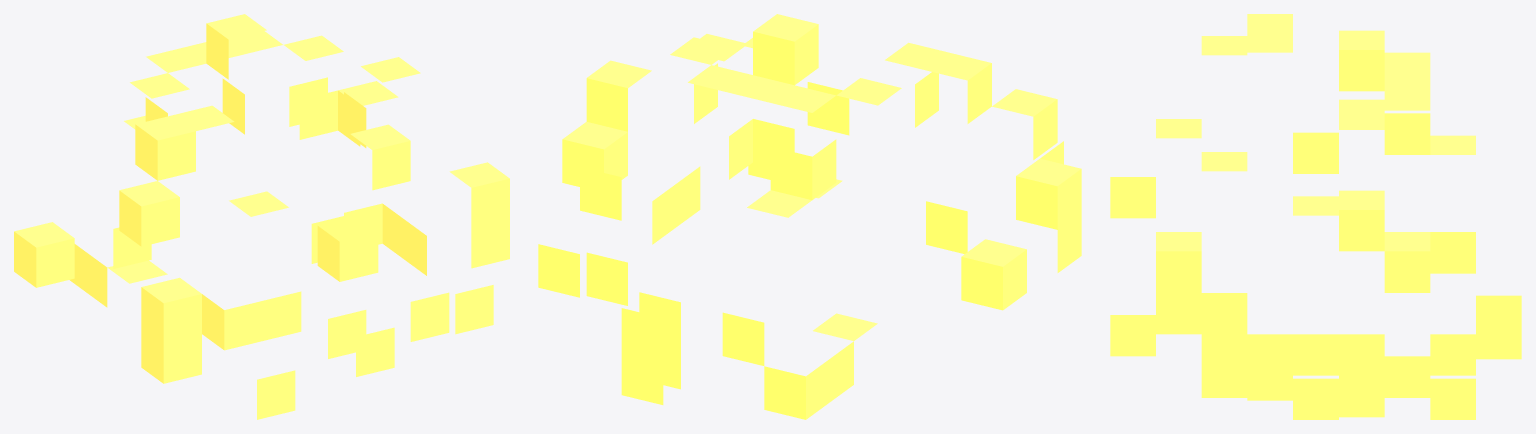
Rendered from tree-maple-1p2-gold-f2c14e.gltf.
The picture shows the model from 3 angles, left to right: view 1: azimuth 30°, elevation 25°; view 2: azimuth 150°, elevation 25°; view 3: azimuth 270°, elevation 25°; orthographic projection. The views are drawn at different scales.
Parts seen in each view (by area): view 1: tree-maple-1p2-gold-f2c14e; view 2: tree-maple-1p2-gold-f2c14e; view 3: tree-maple-1p2-gold-f2c14e.
Boxes of the visible parts, x1,y1,x2,y2 form: tree-maple-1p2-gold-f2c14e: (14, 14, 509, 419); tree-maple-1p2-gold-f2c14e: (538, 14, 1081, 419); tree-maple-1p2-gold-f2c14e: (1110, 14, 1521, 419).
Size of the model in its own units: 10 by 8 by 9.
